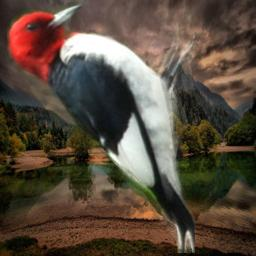Woodpecker: (7, 1, 195, 253)
